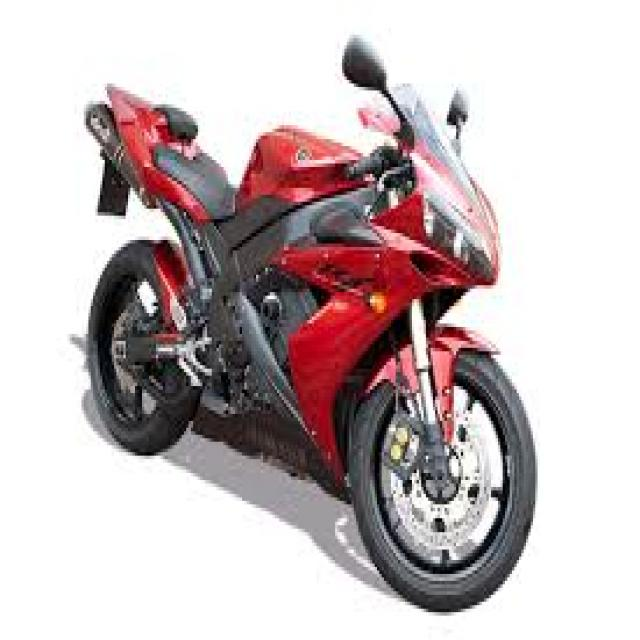Bike: (86, 34, 538, 616)
